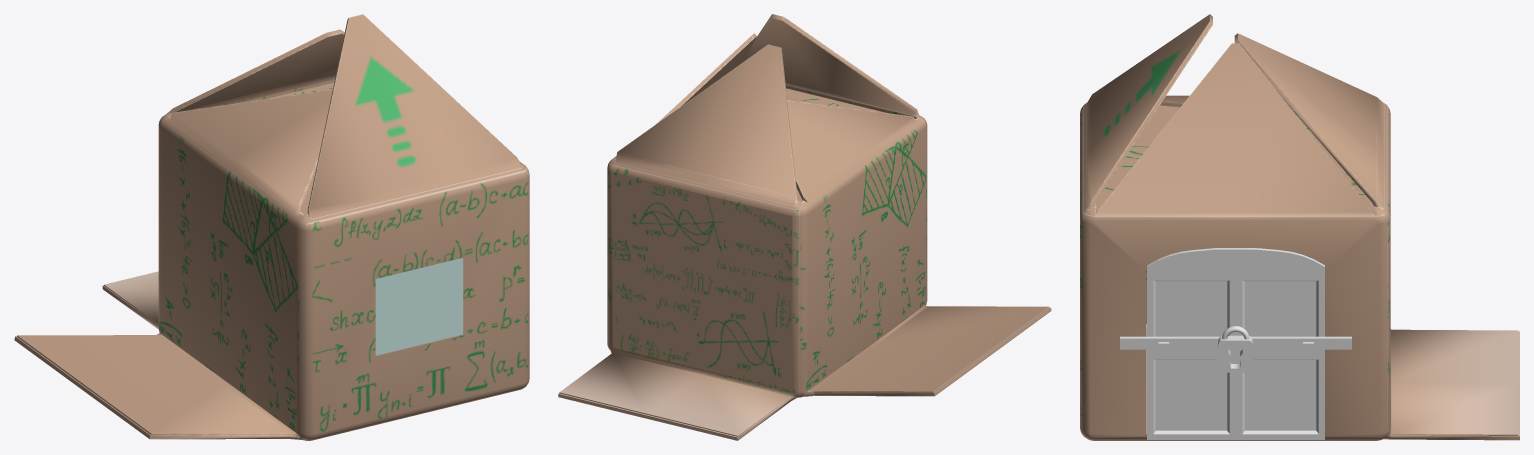
Rendered from mn laatste poging ik begin depressie te krijgen.fbx.
The picture shows the model from 3 angles, left to right: view 1: azimuth 30°, elevation 25°; view 2: azimuth 150°, elevation 25°; view 3: azimuth 270°, elevation 25°; orthographic projection. The views are drawn at different scales.
Visible parts, largest first — view 1: Cube_4, Cube_2; view 2: Cube_4, Cube_2; view 3: Cube_4, Cube, Cube_2, Cube_1, Torus_1.
Part boxes in pixels (box(x1,y1,x2,y2)): Cube_4: box(14, 14, 529, 440); Cube_2: box(17, 33, 343, 435); Cube_4: box(558, 14, 1051, 440); Cube_2: box(559, 17, 1049, 436); Cube_4: box(1080, 14, 1519, 440); Cube: box(1147, 248, 1324, 439); Cube_2: box(1095, 24, 1518, 435); Cube_1: box(1120, 336, 1351, 349); Torus_1: box(1217, 326, 1253, 372).
Size of the model in its own units: 1122 by 969 by 1045.
Materials: 1 (1 with a texture image).
